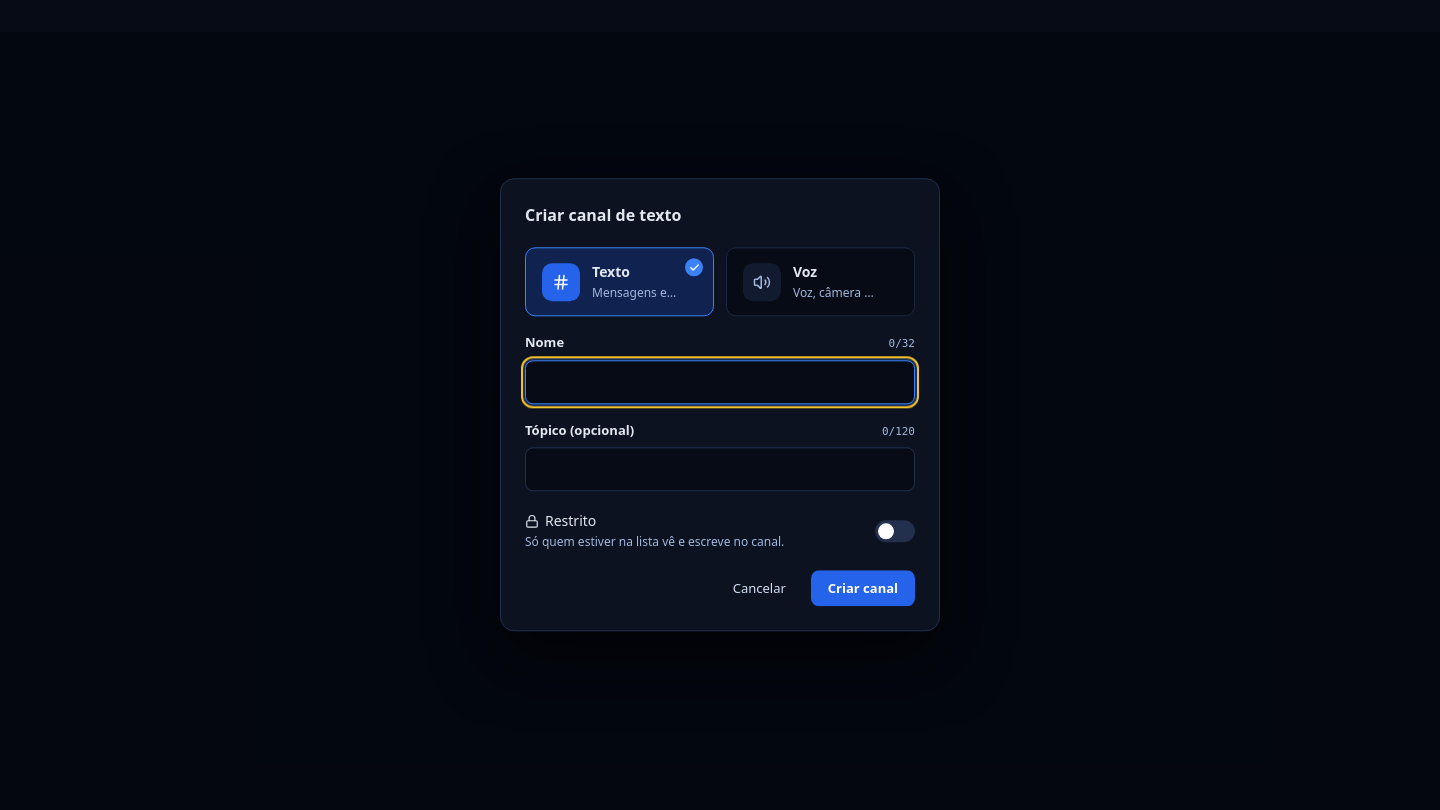
Test: os diálogos de canais › Restrito mostra os membros, e a lista vai junto ao criar
Later steps or results of the test are not shown.
Type "staff" into the field labelled "Nome" at (720, 382), box [525,360,915,404]
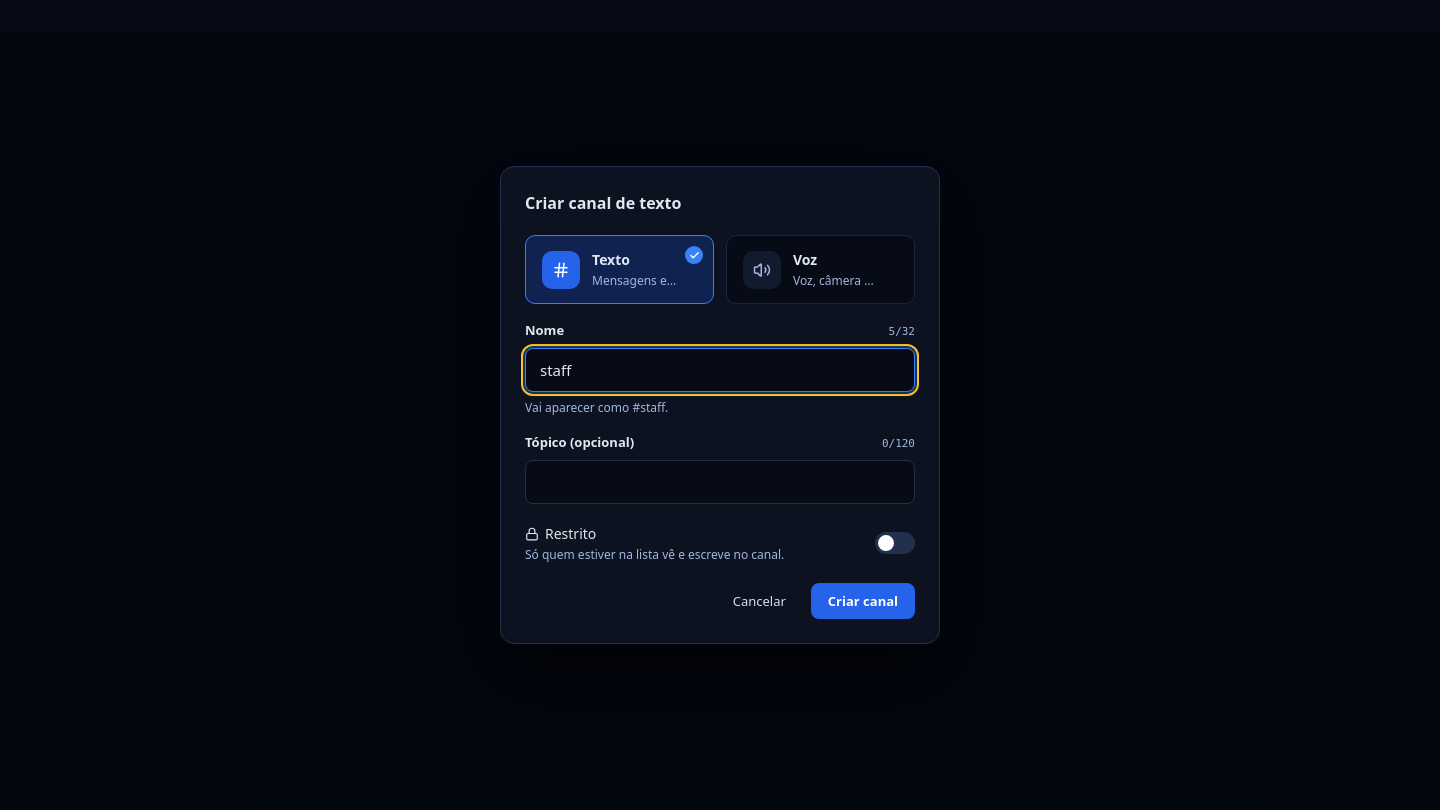
Click the switch named "Restrito" at (895, 544), box [875,532,915,554]
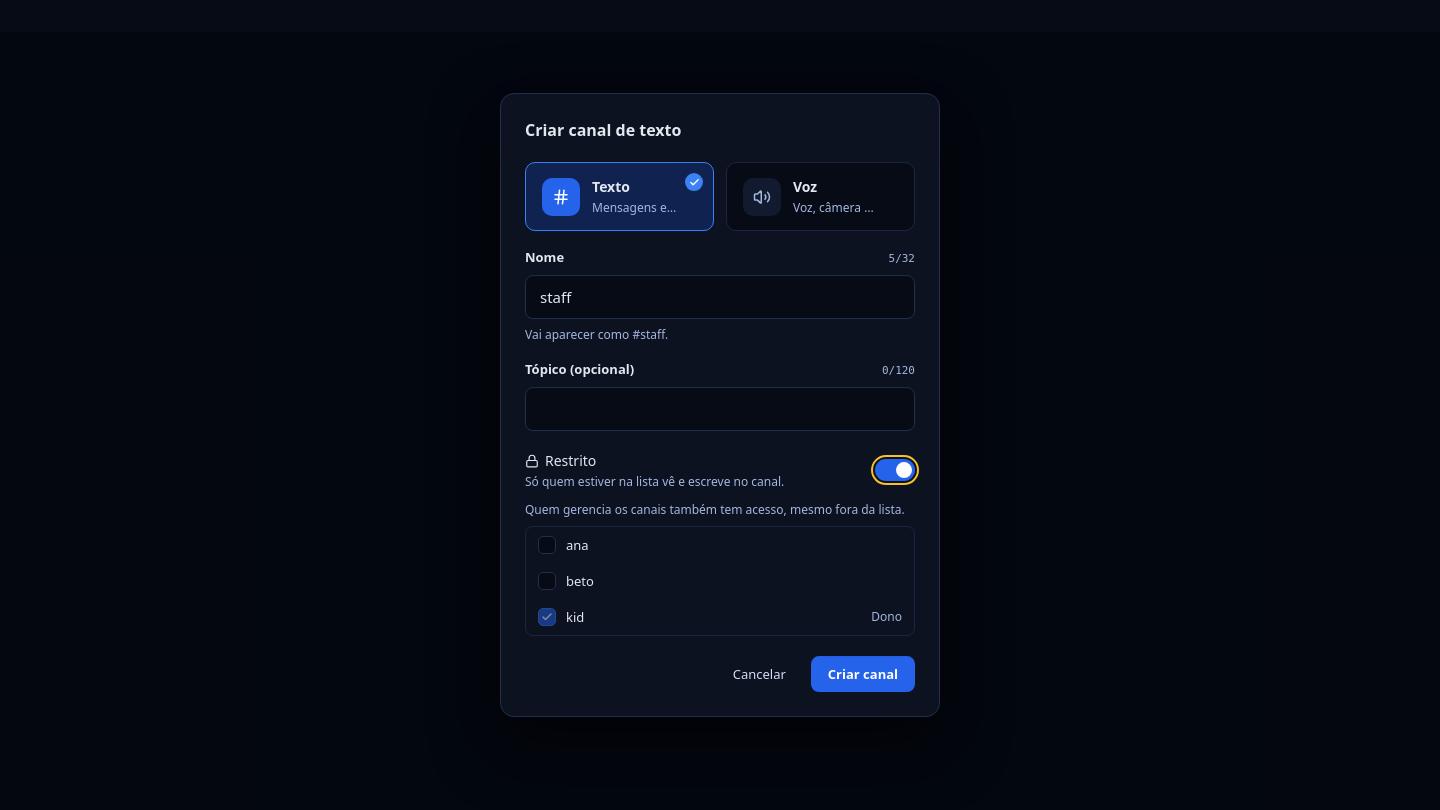
Result: the text "Quem gerencia os canais também tem acesso" is shown at [525,501,905,518]
Result: the checkbox named "kid" next to "kid" is checked at [538,608,556,626]
